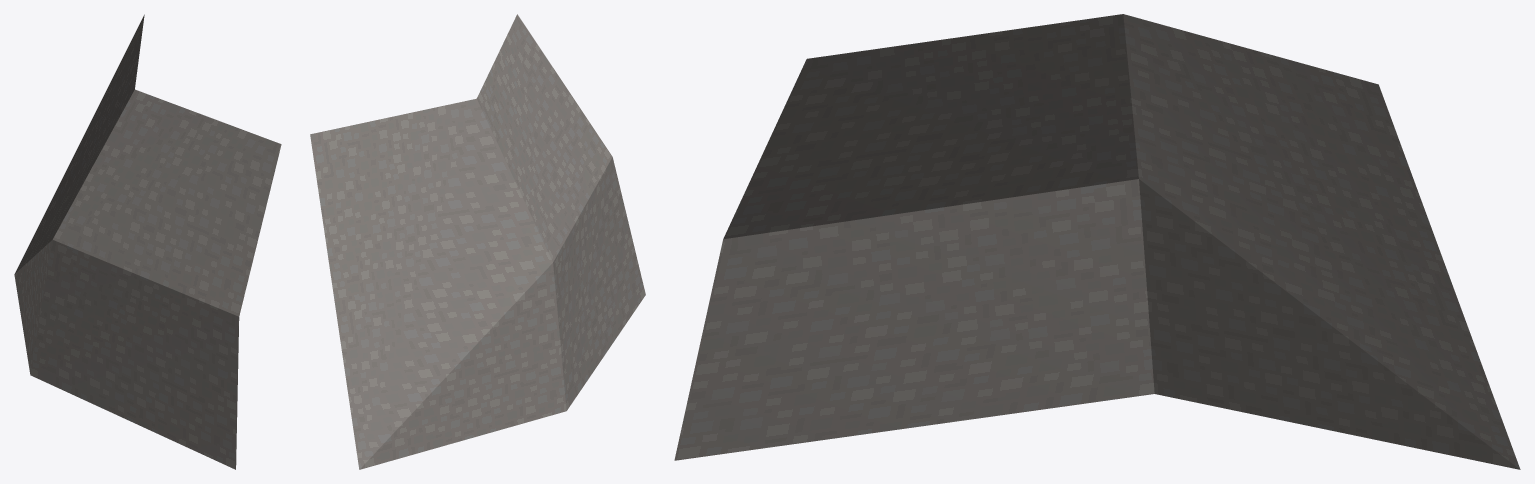
Rendered from kd_stage_135c43_4_29_bounded_piece_5.glb.
3 views of the same model, side by side, from view 1: azimuth 30°, elevation 25°; view 2: azimuth 150°, elevation 25°; view 3: azimuth 270°, elevation 25° (orthographic). The views are drawn at different scales.
Visible parts, largest first — view 1: kd_stage_135c43_4_29_bounded_piece_5; view 2: kd_stage_135c43_4_29_bounded_piece_5; view 3: kd_stage_135c43_4_29_bounded_piece_5.
Boxes of the visible parts, bbox=[...] form: kd_stage_135c43_4_29_bounded_piece_5: bbox=[14, 14, 281, 469]; kd_stage_135c43_4_29_bounded_piece_5: bbox=[310, 14, 645, 469]; kd_stage_135c43_4_29_bounded_piece_5: bbox=[674, 14, 1520, 469].
Bounding box in the file's own units: 0.084 × 0.1234 × 0.2004.
1 material, 1 textured.
